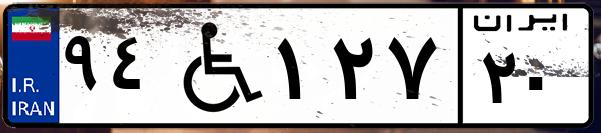0: (525, 38, 570, 115)
1: (270, 28, 330, 110)
2: (330, 28, 385, 110), (475, 38, 525, 113)
4: (110, 28, 158, 98)
7: (385, 28, 445, 110)
9: (57, 26, 110, 100)
ژ (معلولین و جانبازان): (158, 12, 270, 120)
